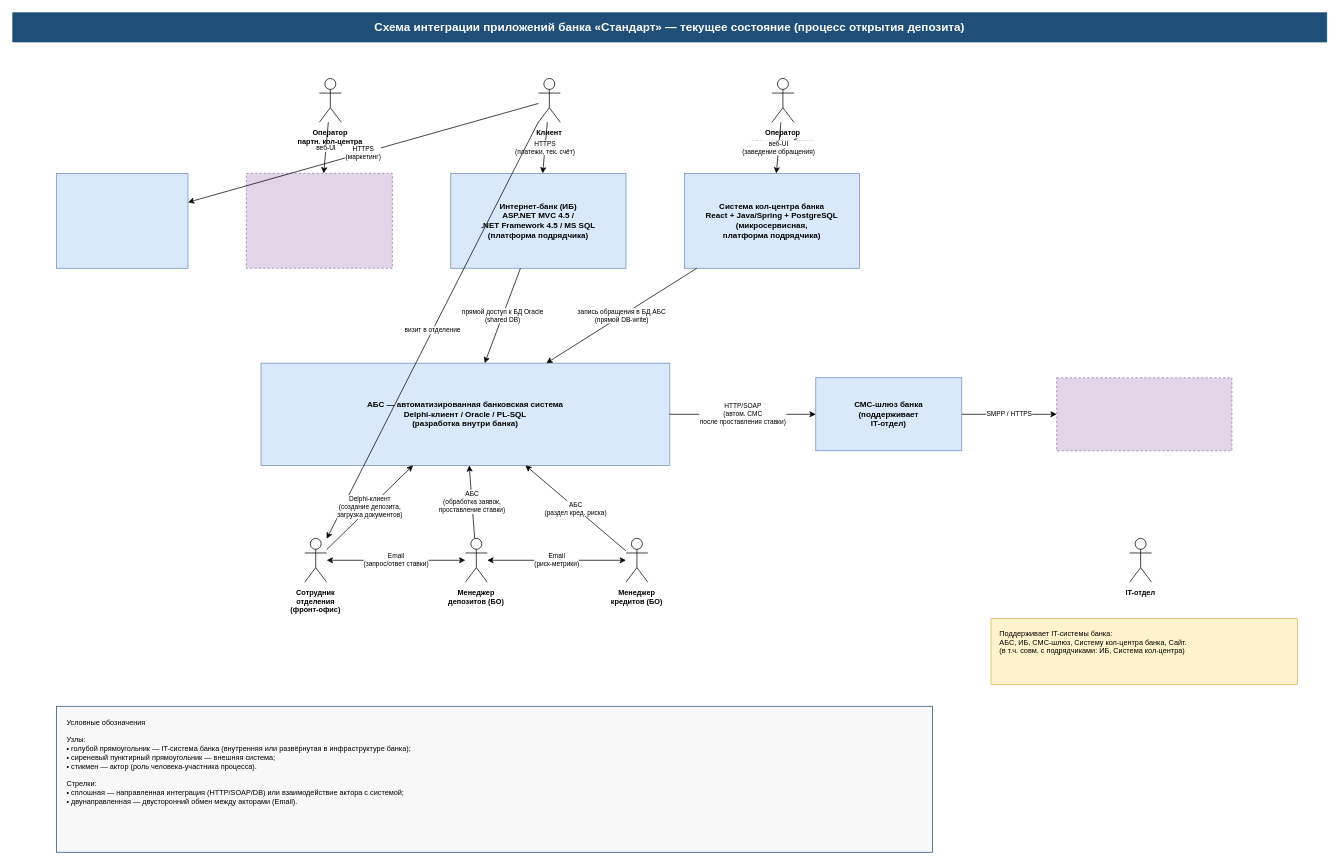
This 1340x865 diagram has some shape labels left out. The shapes that lost their labels are listed below. From the top down, each one's centre as x and y in pixels, then its label:
At [122,220]: "Сайт PHP + React (маркетинг)".
At [319,220]: "Система партнёрского кол-центра (внешняя)".
At [1144,414]: "Telecom-оператор (внешний) СМС → клиенту".
